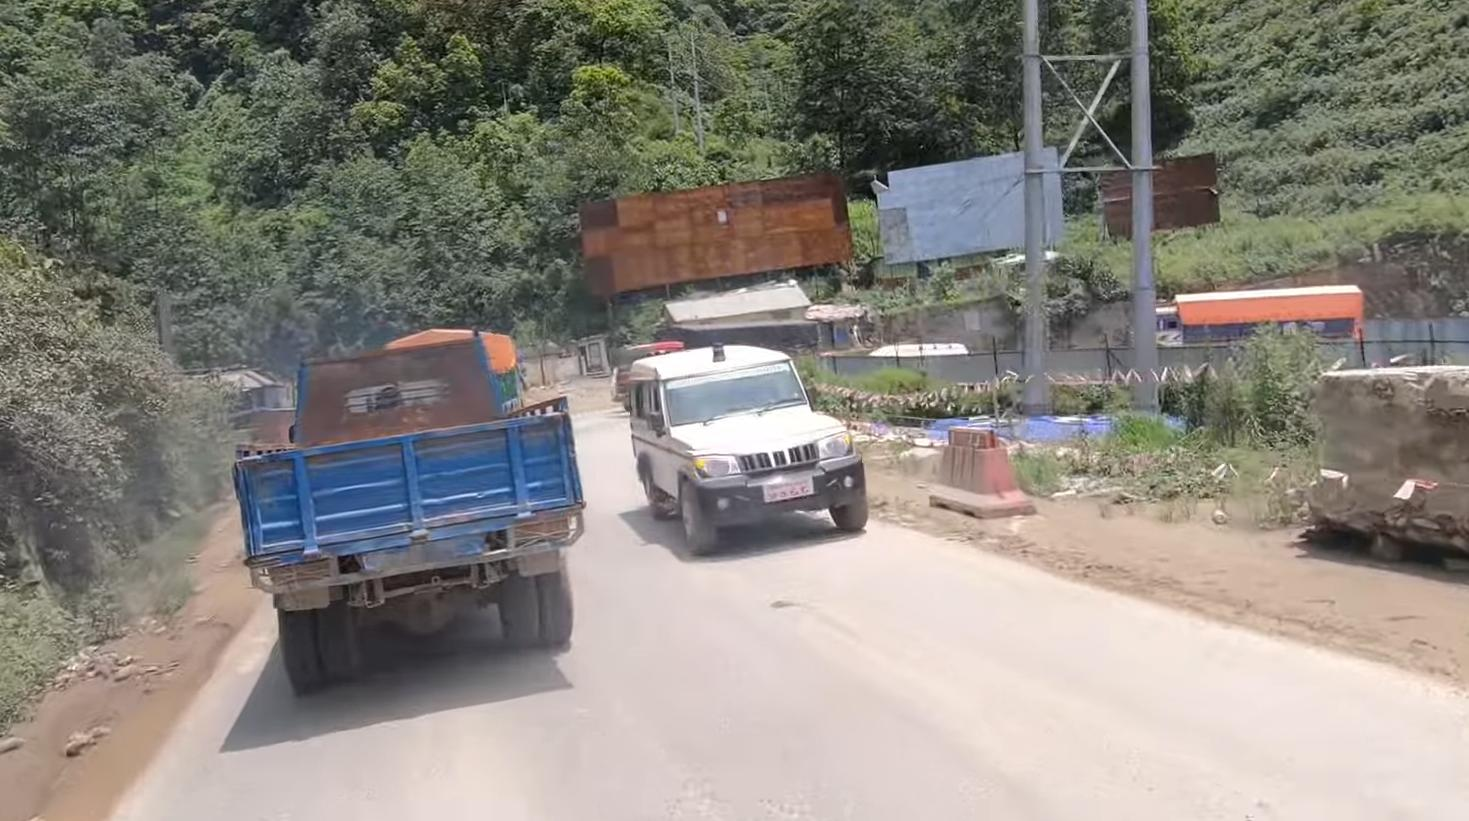ambulance: (613, 333, 878, 571)
mini_truck: (207, 336, 587, 692)
